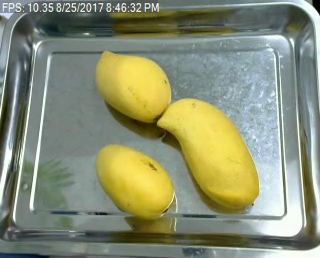Mango: (158, 94, 264, 209), (93, 141, 179, 221), (95, 46, 173, 120)
